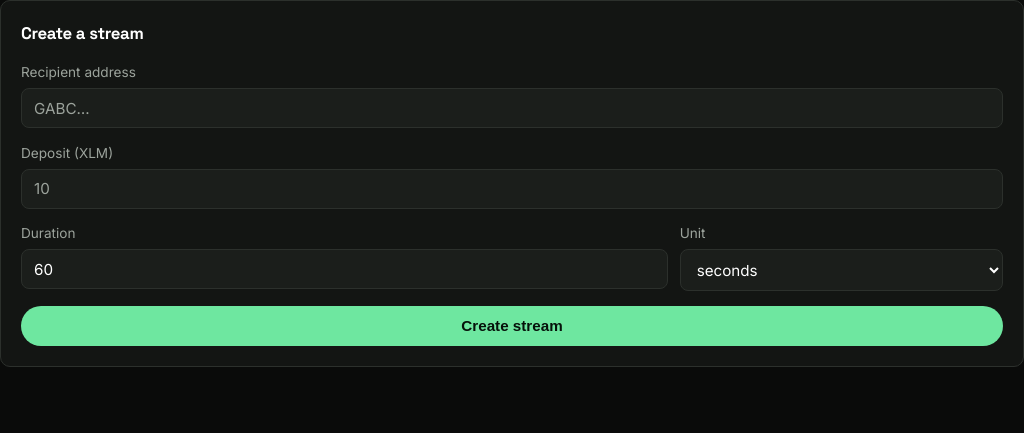
Test case: CreateStreamForm › shows field-level validation errors instead of submitting when the form is invalid
This screenshot has width=1024, height=433.
Click the button "Create stream" at point(512, 326), box [21,306,1003,346]
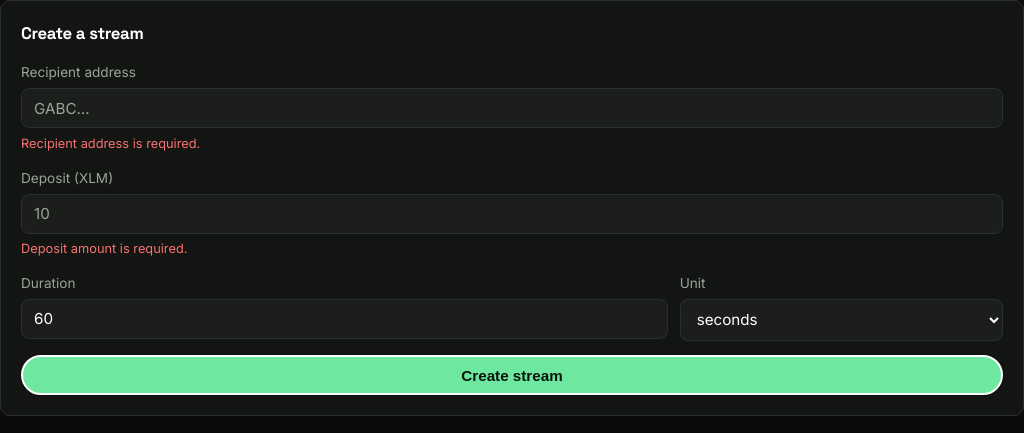
expect the text "Recipient address is required." is shown: met, box [21,136,200,151]
expect the text "Deposit amount is required." is shown: met, box [21,241,187,256]
